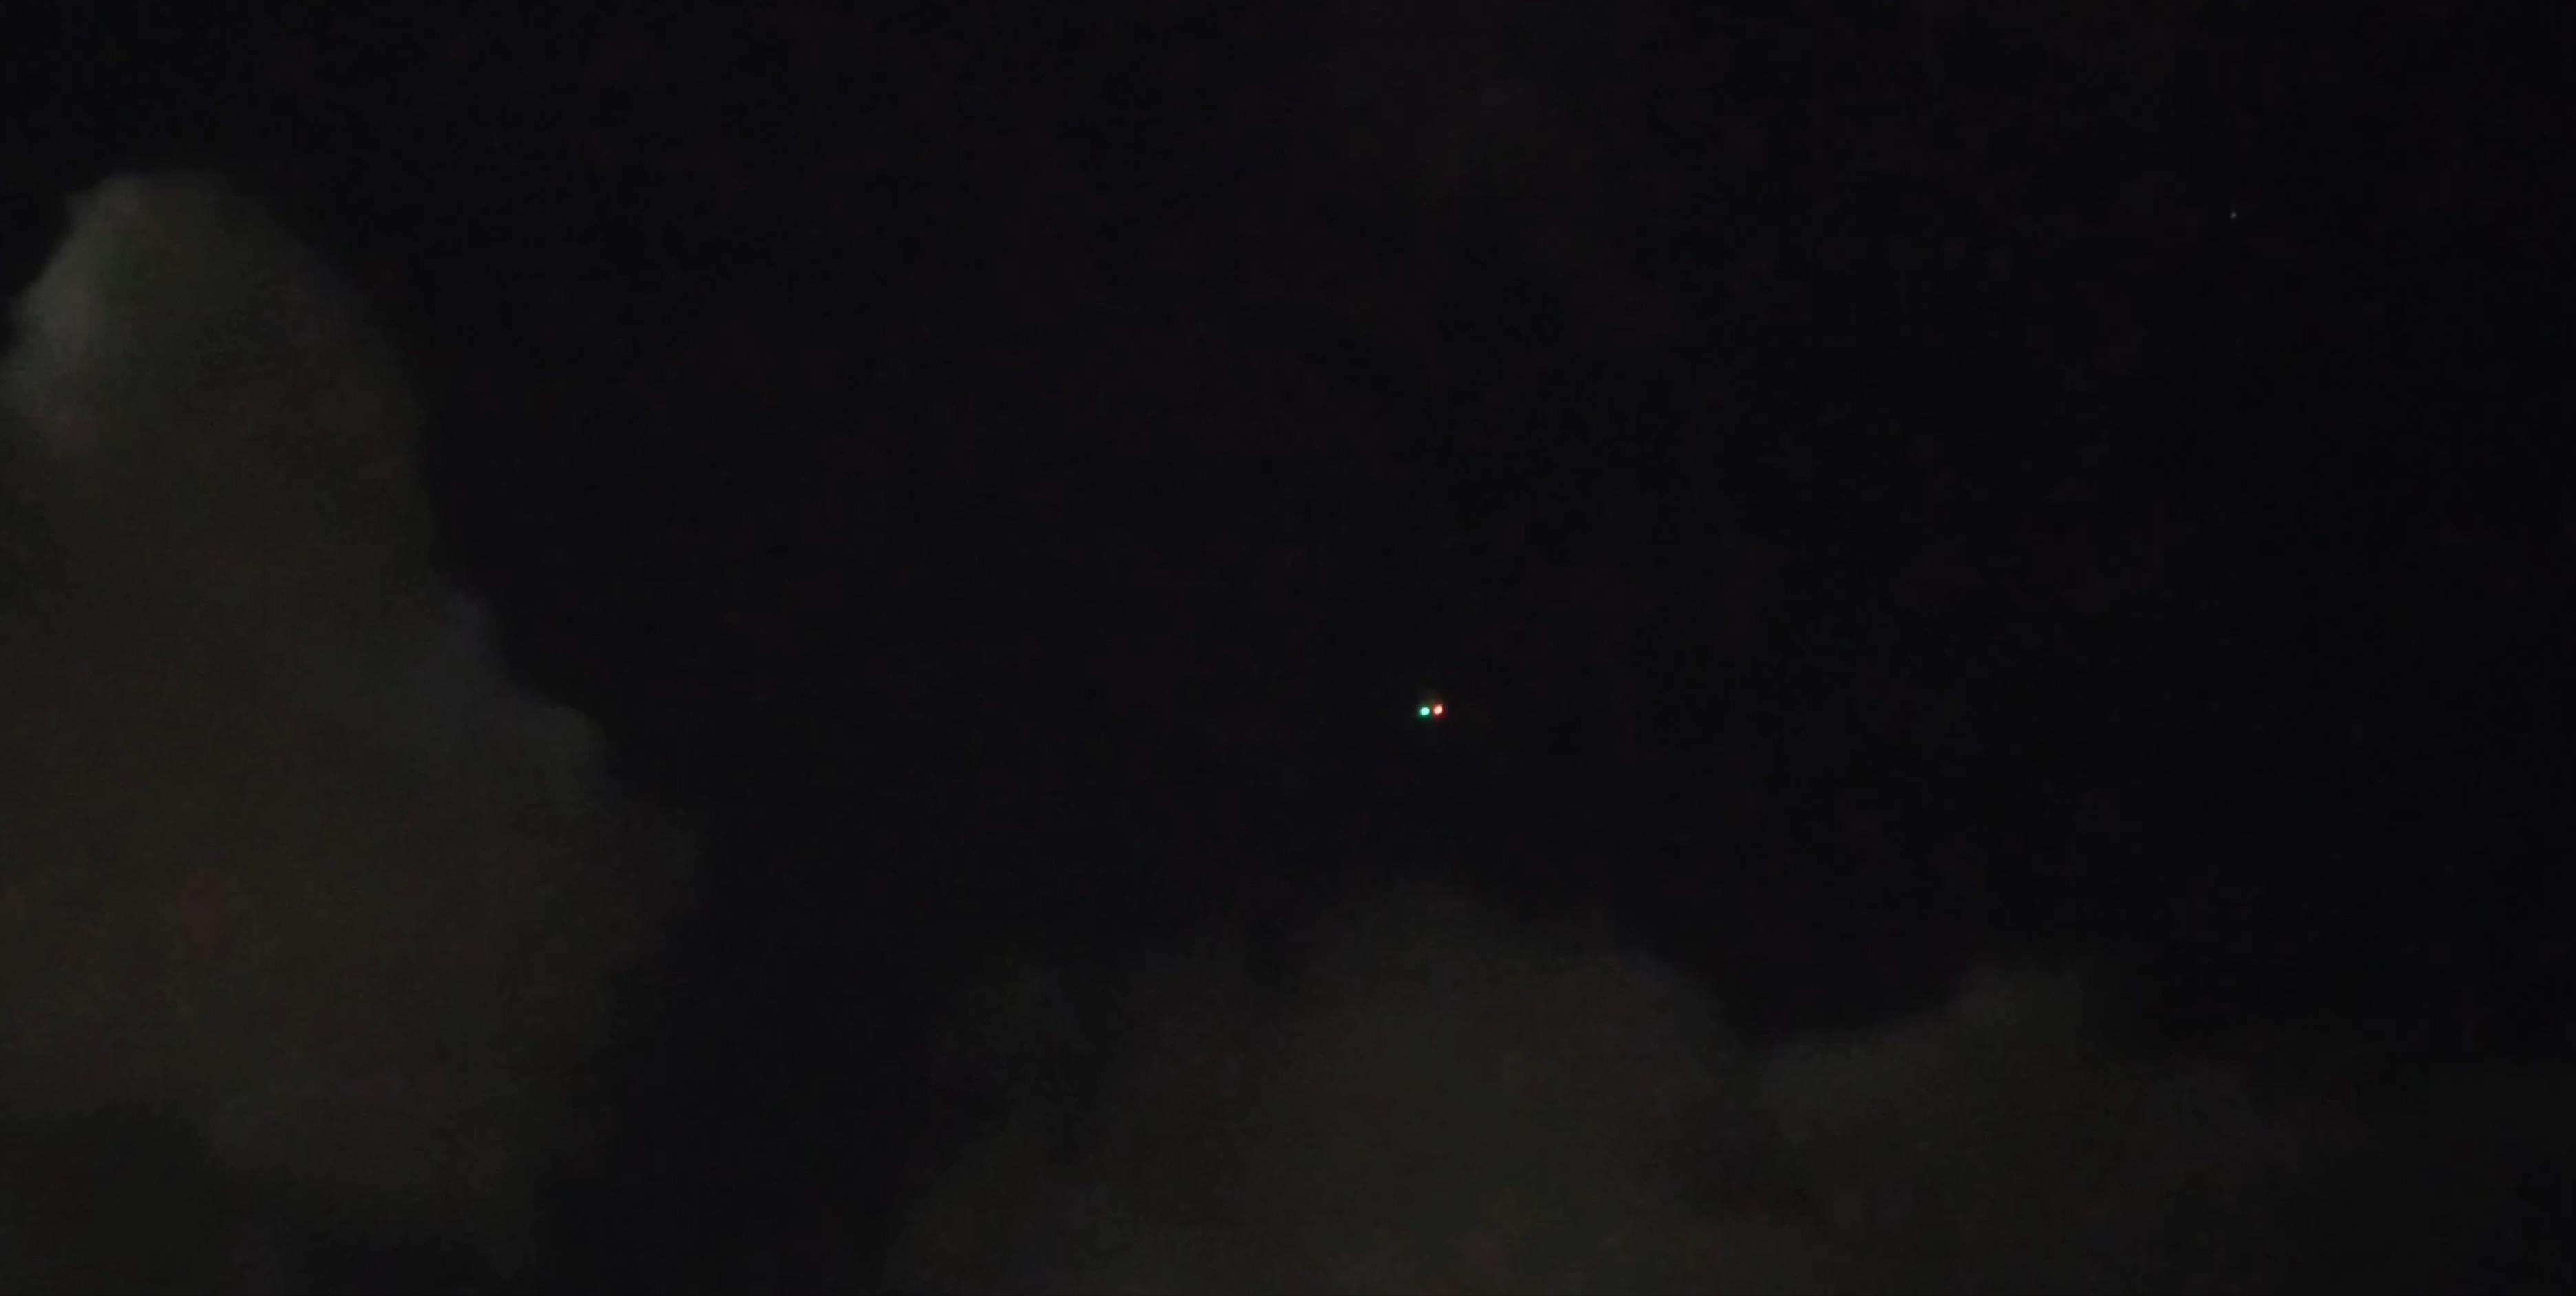Plane: (1368, 673, 1504, 746)
